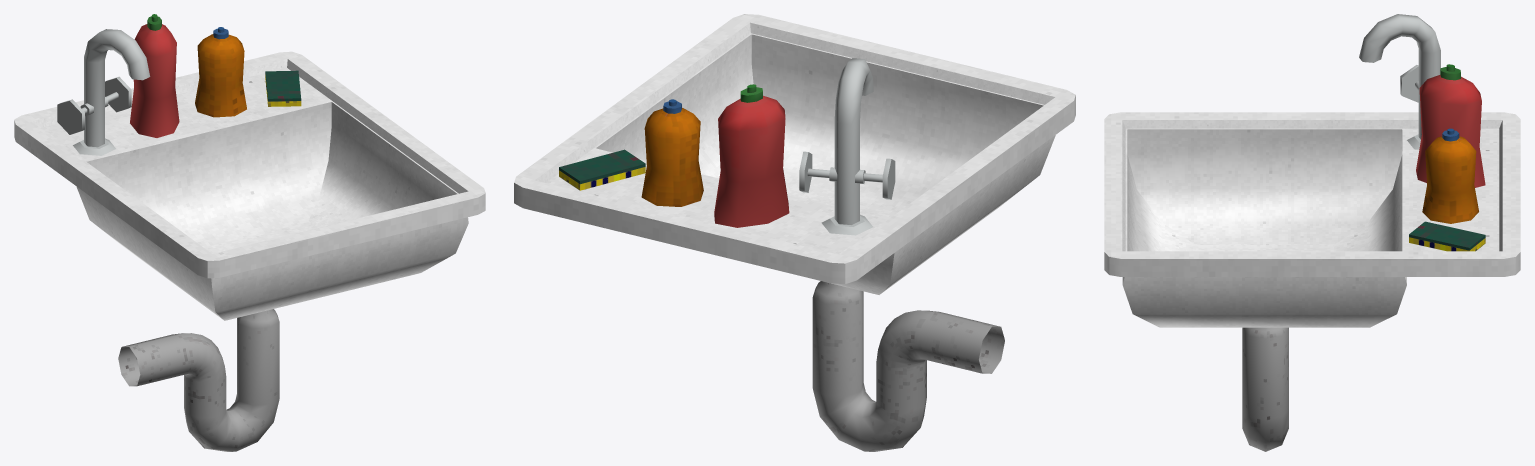
The model's file is Sink_low.fbx.
3 renders of one model, left to right at view 1: azimuth 30°, elevation 25°; view 2: azimuth 150°, elevation 25°; view 3: azimuth 270°, elevation 25°, orthographic. The views are drawn at different scales.
Visible parts, largest first — view 1: Sink_low, Sink_low.001, Sink_low.006, Sink_low.002, Sink_low.005, Sink_low.003, Sink_low.004; view 2: Sink_low, Sink_low.001, Sink_low.006, Sink_low.005, Sink_low.002, Sink_low.004, Sink_low.003; view 3: Sink_low, Sink_low.001, Sink_low.006, Sink_low.005, Sink_low.002, Sink_low.004, Sink_low.003.
Boxes of the visible parts, left/top/right/bottom form: Sink_low: left=14, top=51, right=485, bottom=320; Sink_low.001: left=118, top=309, right=279, bottom=451; Sink_low.006: left=130, top=14, right=179, bottom=137; Sink_low.002: left=73, top=29, right=150, bottom=155; Sink_low.005: left=195, top=27, right=246, bottom=117; Sink_low.003: left=57, top=76, right=131, bottom=134; Sink_low.004: left=265, top=70, right=301, bottom=106; Sink_low: left=514, top=14, right=1075, bottom=294; Sink_low.001: left=812, top=281, right=1004, bottom=451; Sink_low.006: left=714, top=84, right=789, bottom=227; Sink_low.005: left=641, top=99, right=703, bottom=206; Sink_low.002: left=821, top=58, right=873, bottom=235; Sink_low.004: left=559, top=149, right=645, bottom=190; Sink_low.003: left=799, top=151, right=895, bottom=199; Sink_low: left=1104, top=112, right=1520, bottom=327; Sink_low.001: left=1242, top=327, right=1288, bottom=451; Sink_low.006: left=1416, top=64, right=1485, bottom=187; Sink_low.005: left=1422, top=128, right=1478, bottom=223; Sink_low.002: left=1359, top=14, right=1440, bottom=149; Sink_low.004: left=1409, top=221, right=1485, bottom=251; Sink_low.003: left=1400, top=65, right=1418, bottom=102.
Bounding box in the file's own units: 50 × 64.3 × 60.
Materials: 1 (1 with a texture image).
